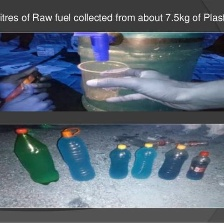bottle: (10, 125, 62, 190), (55, 126, 102, 186), (154, 139, 188, 184), (128, 139, 160, 181), (181, 145, 215, 181), (107, 140, 131, 181)
glass: (74, 55, 132, 102)
